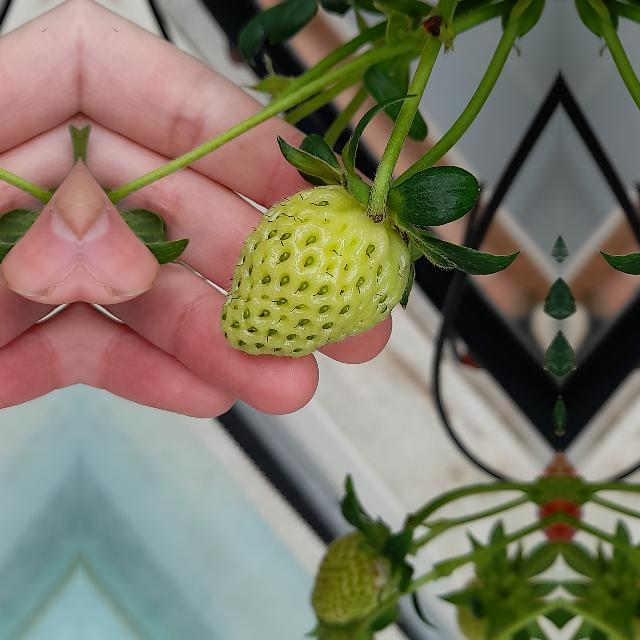Health_25: (220, 185, 410, 357), (300, 521, 406, 623)
